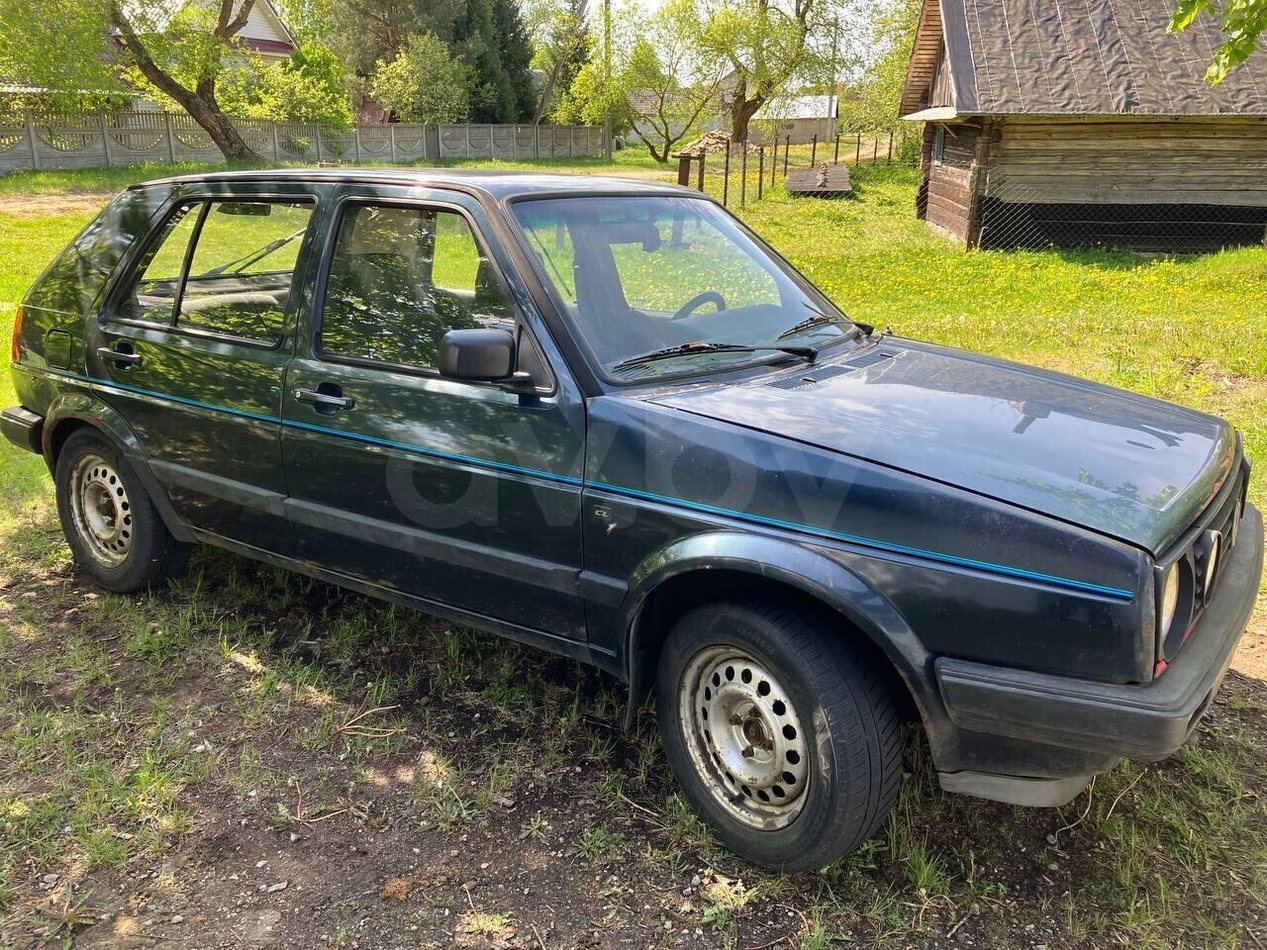Golf_1983-1992: (2, 163, 1267, 872)
